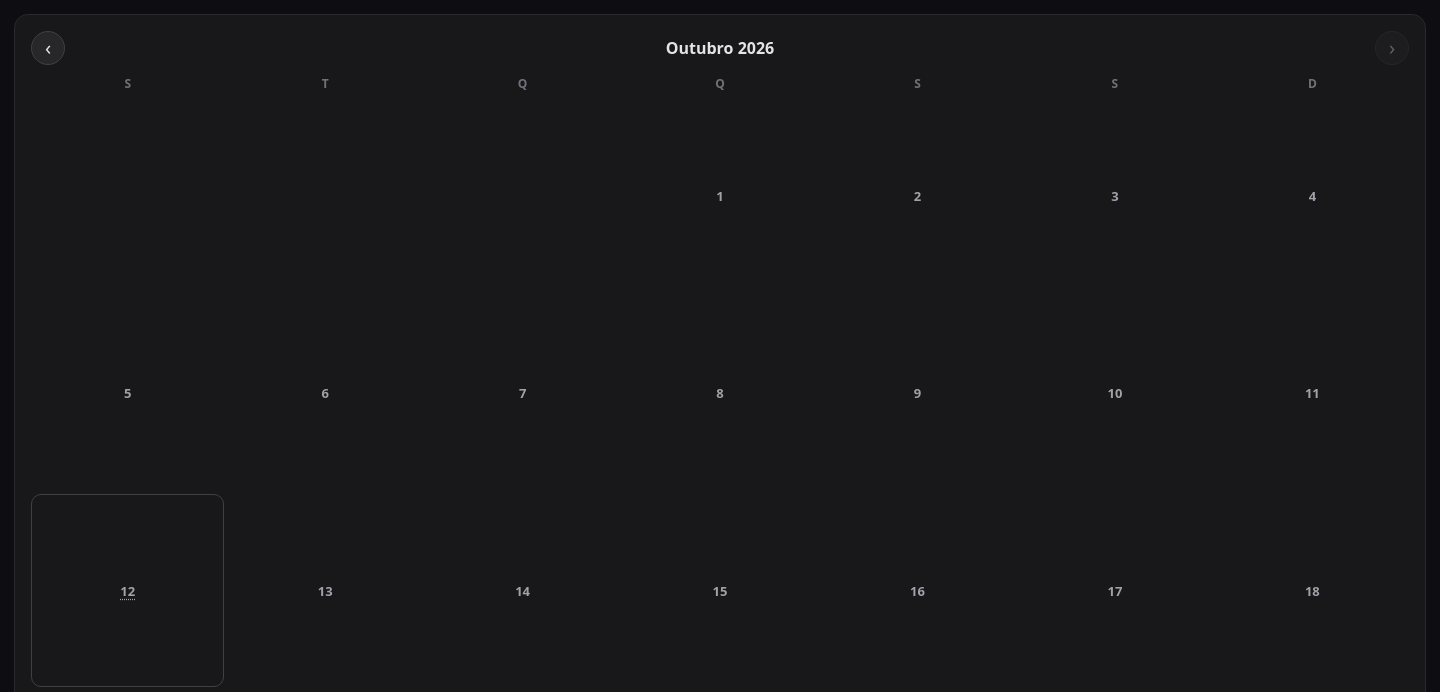
Test: HistoricoPage › voltar um mês busca o mês anterior; o botão "próximo" fica desligado no mês atual
The image size is (1440, 692).
Check: the button named "Próximo mês" is disabled, box x1=1375 y1=31 x2=1409 y2=65
Click the button named "Mês anterior" at {"x": 48, "y": 48}, box x1=31 y1=31 x2=65 y2=65
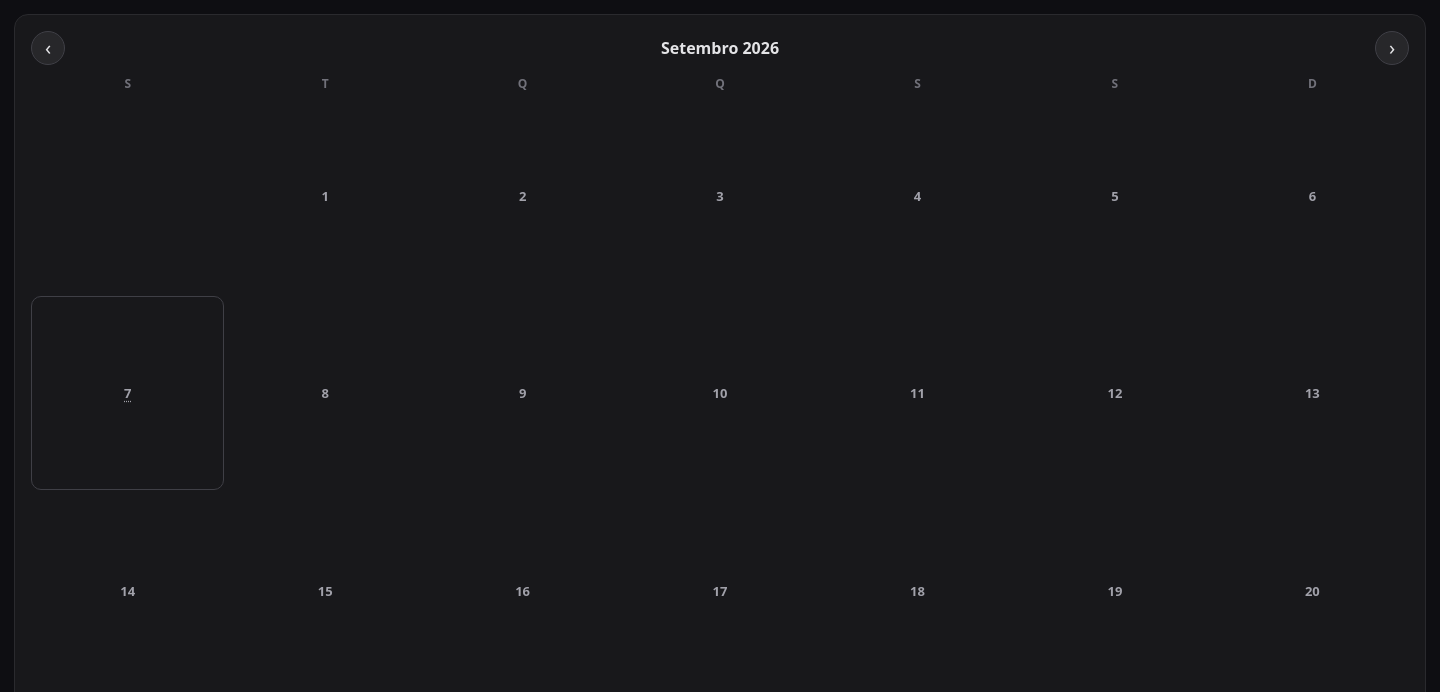
Check: the button named "Próximo mês" is enabled, box x1=1375 y1=31 x2=1409 y2=65
